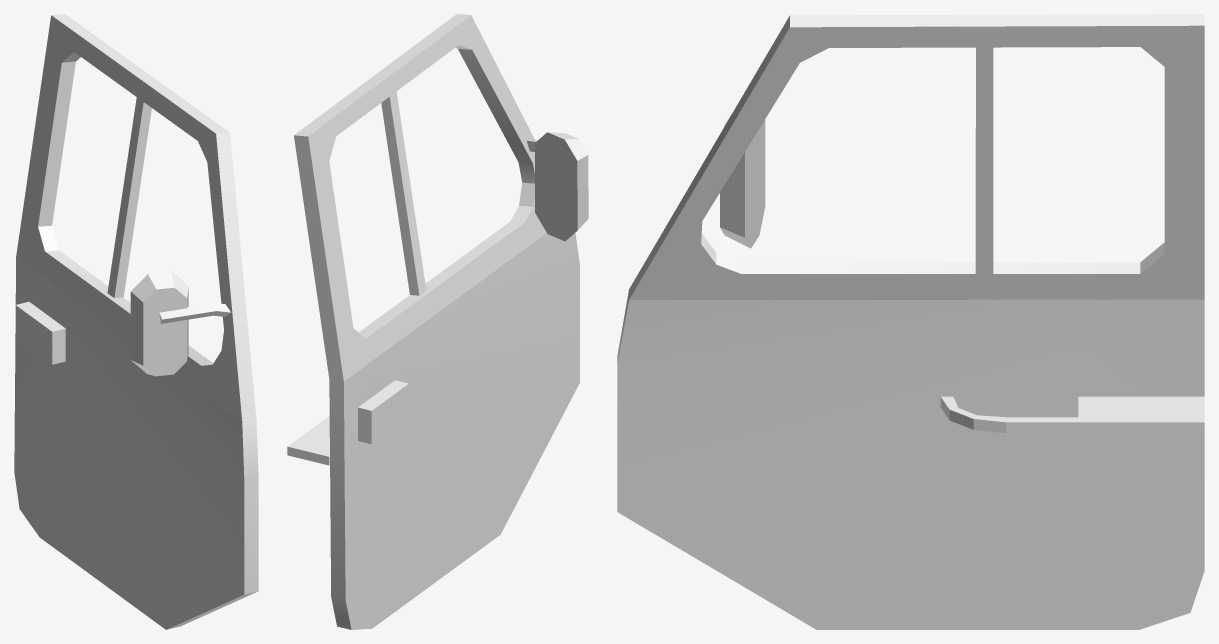
The picture shows the model from 3 angles, left to right: view 1: azimuth 30°, elevation 25°; view 2: azimuth 150°, elevation 25°; view 3: azimuth 270°, elevation 25°; orthographic projection. The views are drawn at different scales.
Size of the model in its own units: 0.2373 by 0.9887 by 0.8354.
Materials: 1 (1 with a texture image).
